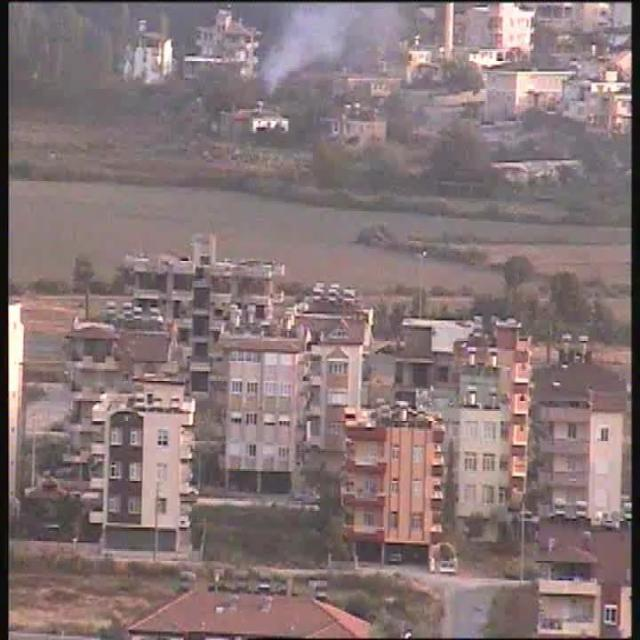Smoke: (262, 2, 398, 92)
